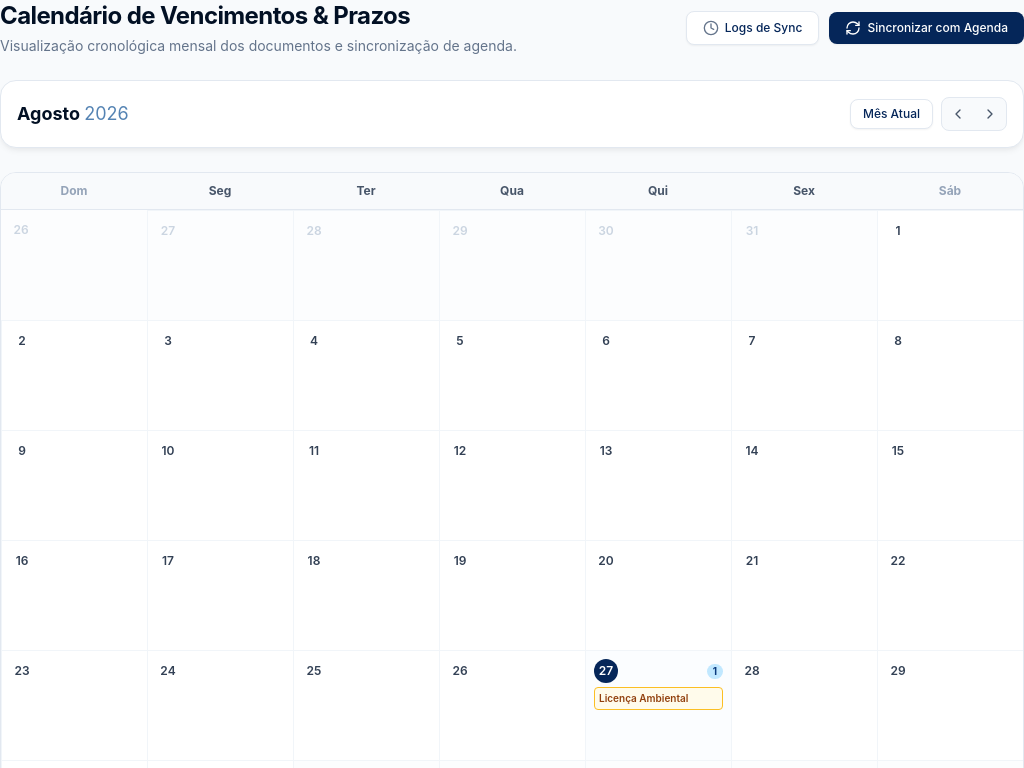
Test case: Calendário — serviços, mês/ano e sync › renderiza o evento pela data textual, comunica sincronização real com o Google Agenda e abre logs somente para ADMIN
Check: the text "Licença Ambiental" is shown, box [599,692,688,704]
What coordinates should you click on to do the following:
click the button "Sincronizar com Agenda"
I would click on:
 (927, 28)
Its box is [829,12,1023,44].
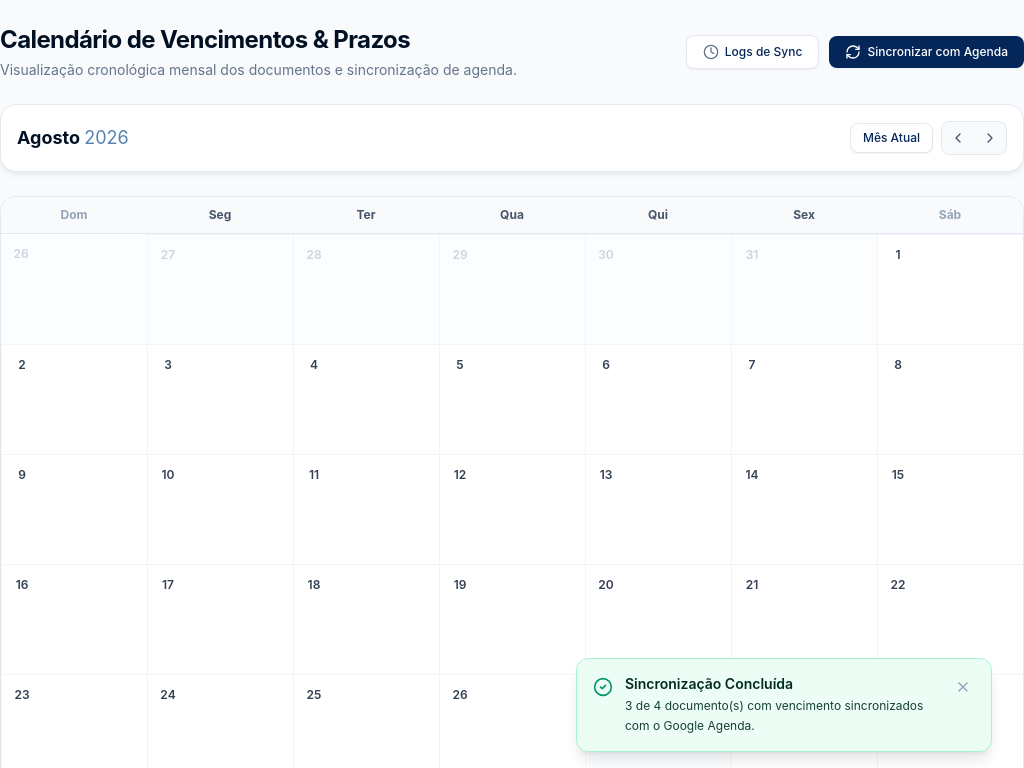
What coordinates should you click on to do the following:
click the button "Logs de Sync"
I would click on:
 (753, 52)
Its box is [686,35,819,69].
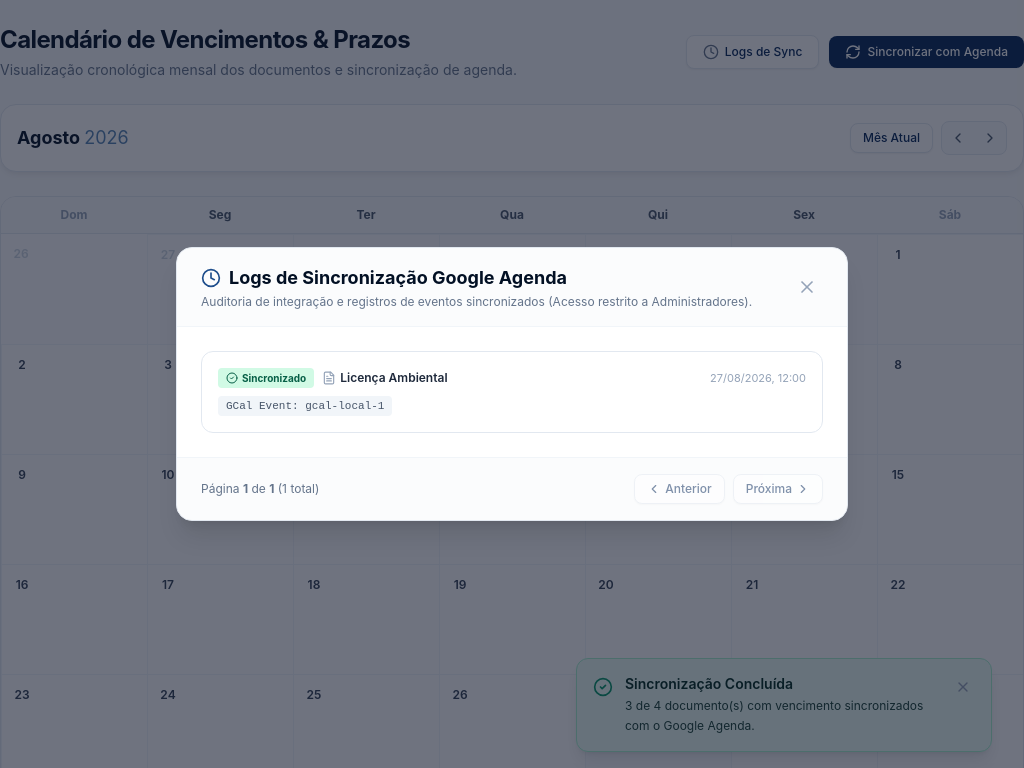
Check: the dialog "Logs de Sincronização Google Agenda" is shown
